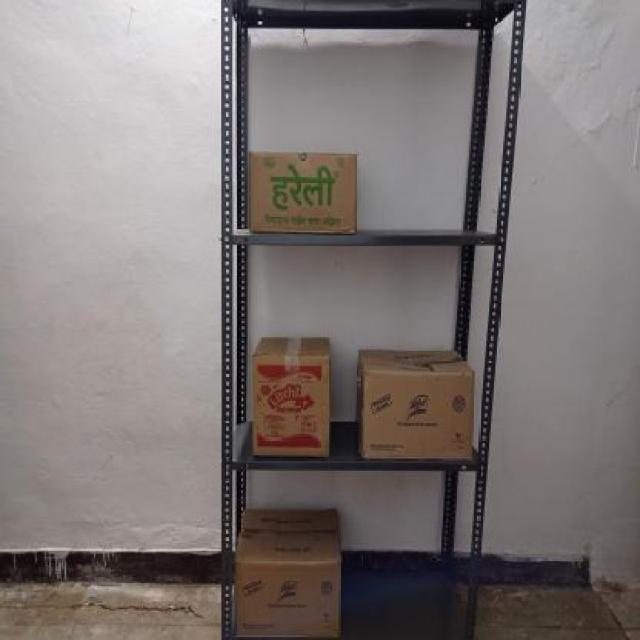box: (358, 369, 474, 460), (249, 154, 357, 235), (253, 354, 330, 462), (238, 563, 340, 640)
